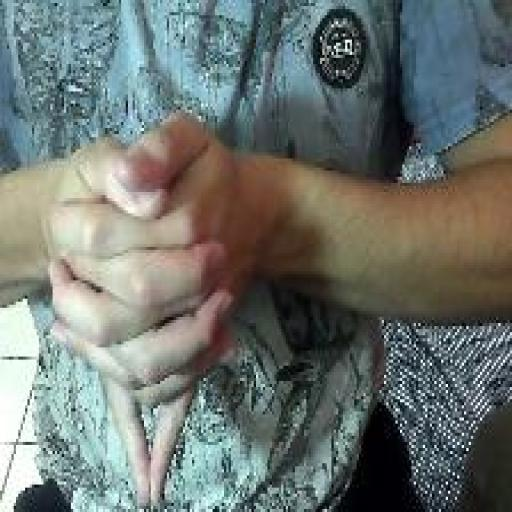Tatsu -dragon-: (46, 105, 242, 511)
